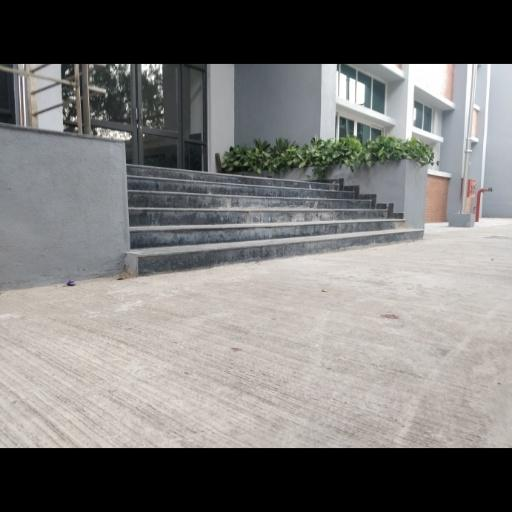stairs: (126, 165, 422, 274)
